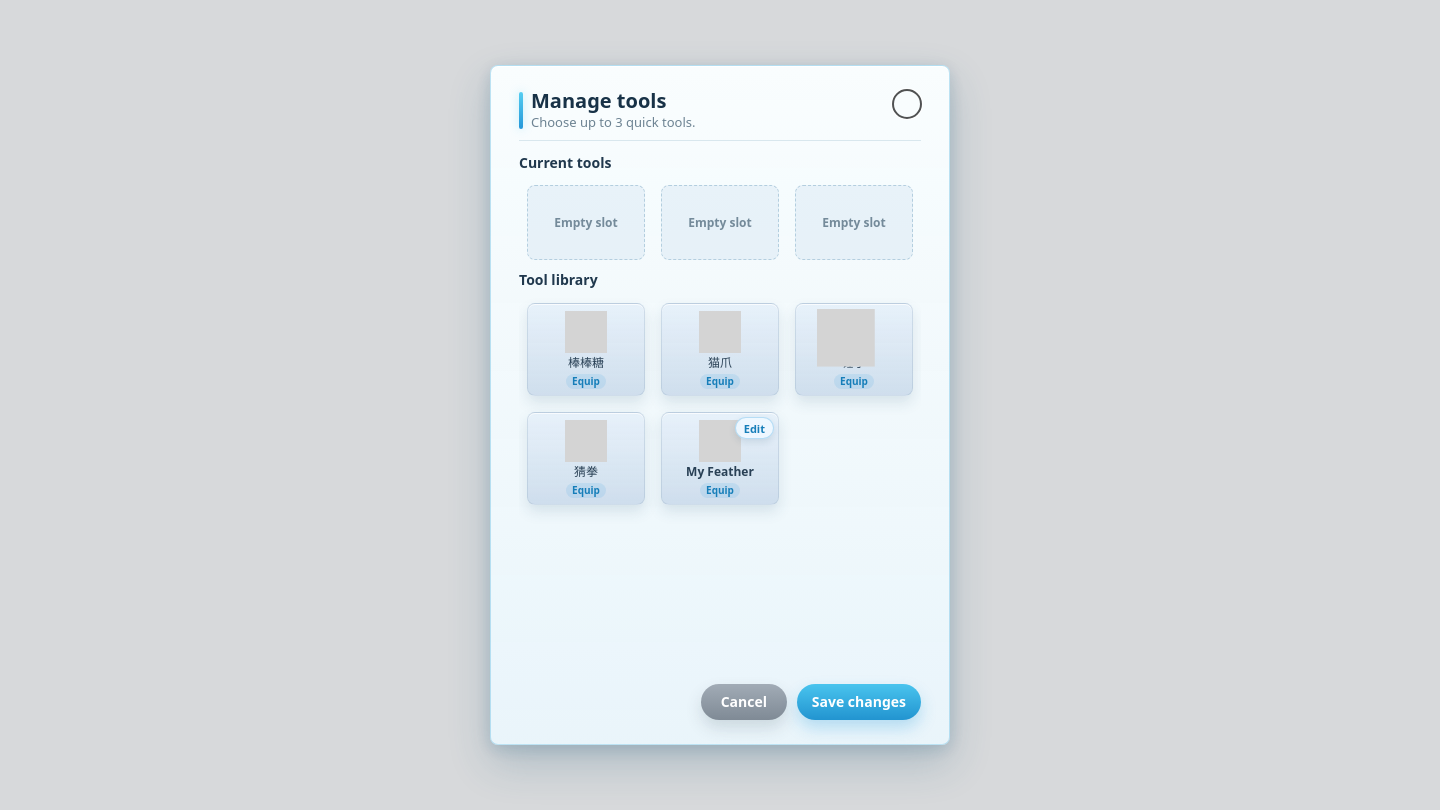
Test: AvatarToolItemManager local creation › keeps the library visible when edit details cannot be loaded
This screenshot has width=1440, height=810.
Click the button with aria-label "Edit My Feather" at (754, 428), box [735, 417, 774, 439]
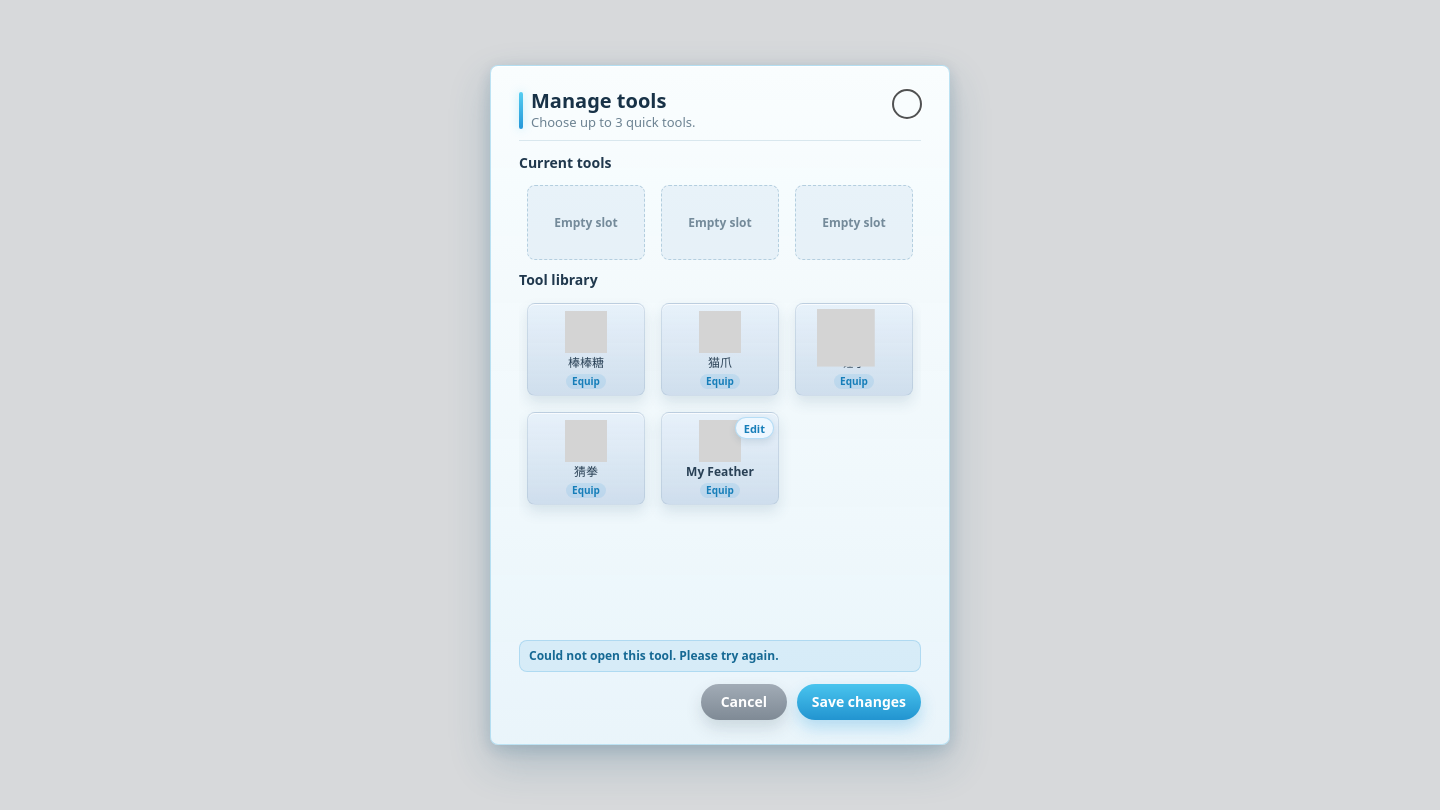
expect the dialog "Manage tools" is shown: met, box [490, 65, 950, 745]
expect the message shows "Could not open this tool": met, box [529, 647, 779, 664]
